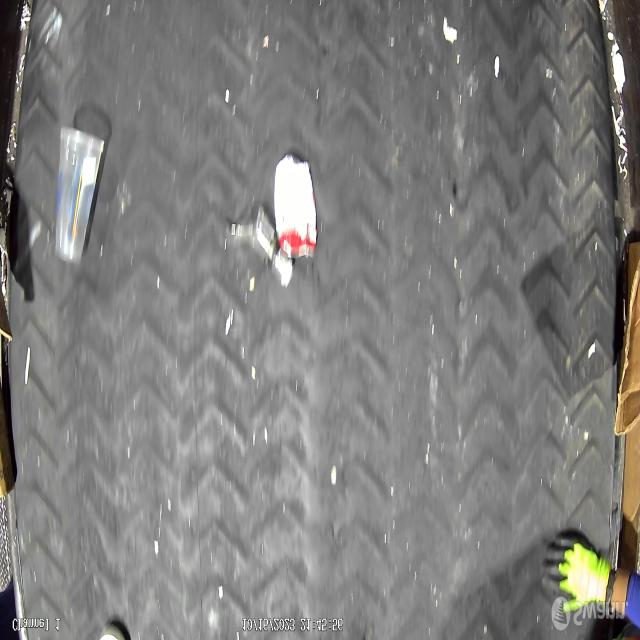can: (272, 153, 318, 260)
